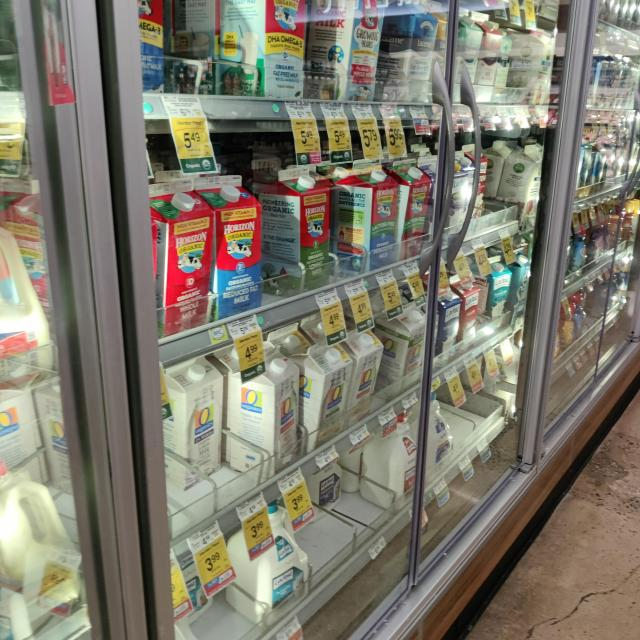Milk: (142, 175, 224, 329), (204, 177, 280, 322), (227, 514, 323, 628), (155, 358, 229, 494), (309, 0, 386, 118), (333, 157, 404, 279), (222, 363, 294, 475), (272, 156, 336, 281), (291, 343, 353, 462), (380, 292, 428, 388)
